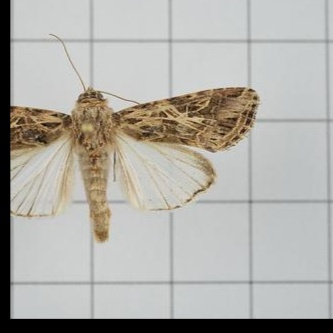Spodoptera litura: (11, 33, 261, 243)
